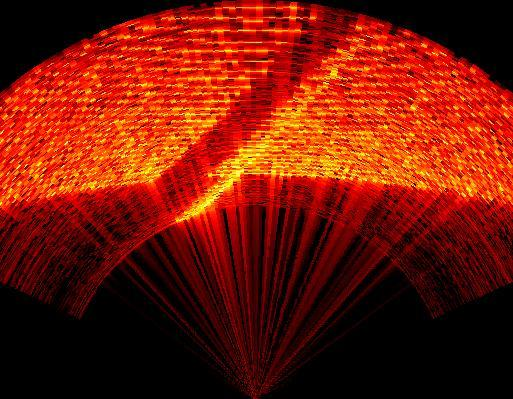pipe: (145, 7, 380, 223)
